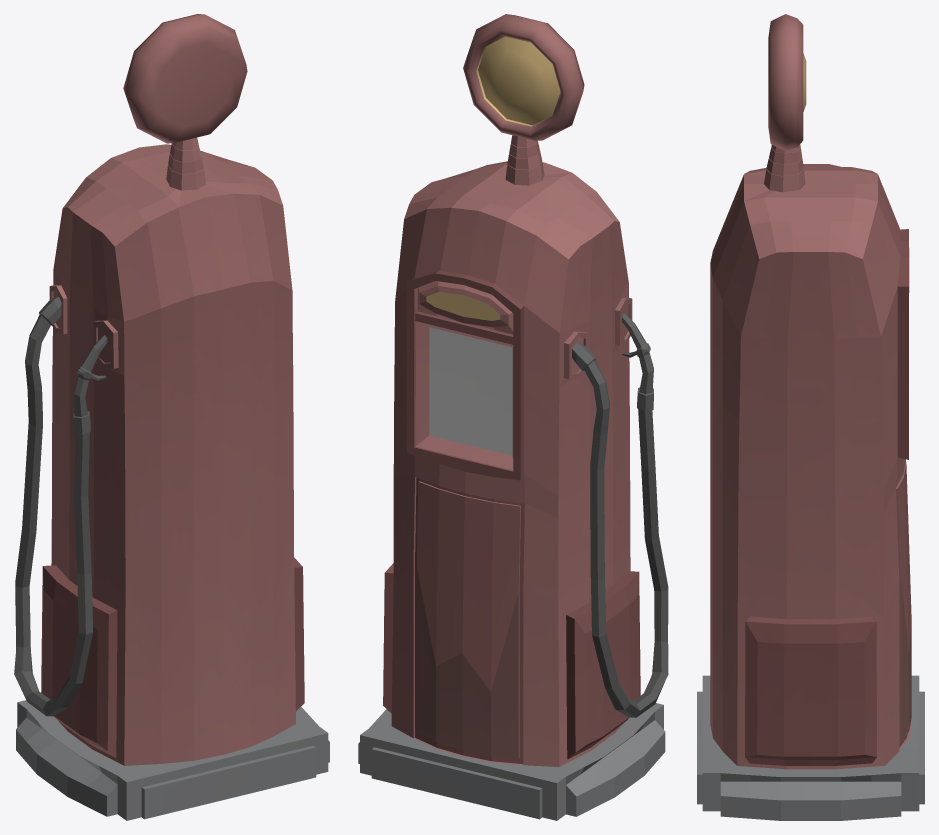
The model's file is gas_pump_A.glb.
3 views of the same model, side by side, from view 1: azimuth 30°, elevation 25°; view 2: azimuth 150°, elevation 25°; view 3: azimuth 270°, elevation 25° (orthographic). The views are drawn at different scales.
Parts seen in each view (by area): view 1: gas_pump_A_body, gas_pump_A_head, gas_pump_A_hose, gas_pump_A_nozzle; view 2: gas_pump_A_body, gas_pump_A_head, gas_pump_A_hose, gas_pump_A_nozzle; view 3: gas_pump_A_body, gas_pump_A_head.
Part boxes in pixels (x1,y1,x2,y2): gas_pump_A_body: (16,137,329,820); gas_pump_A_head: (123,14,247,143); gas_pump_A_hose: (14,296,92,716); gas_pump_A_nozzle: (73,335,107,434); gas_pump_A_body: (358,135,665,820); gas_pump_A_head: (463,14,584,140); gas_pump_A_hose: (572,342,668,717); gas_pump_A_nozzle: (622,313,653,411); gas_pump_A_body: (697,144,924,820); gas_pump_A_head: (768,14,806,151).
Size of the model in its own units: 0.9904 by 2.71 by 0.7562.
Materials: 1 (1 with a texture image).
